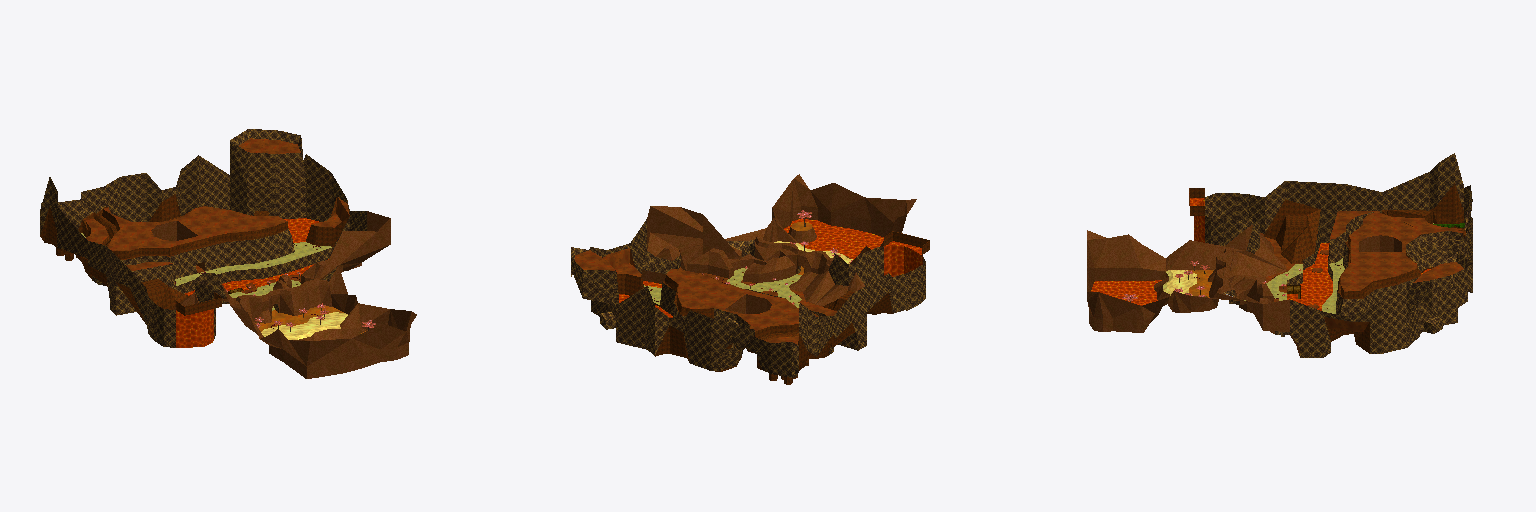
The picture shows the model from 3 angles: view 1: azimuth 30°, elevation 25°; view 2: azimuth 150°, elevation 25°; view 3: azimuth 270°, elevation 25°; orthographic projection.
Visible parts, largest first — view 1: Mesh195 Model; view 2: Mesh195 Model; view 3: Mesh195 Model.
Boxes of the visible parts, x1,y1,x2,y2 form: Mesh195 Model: [40, 129, 416, 378]; Mesh195 Model: [571, 174, 929, 384]; Mesh195 Model: [1087, 153, 1472, 357].
Bounding box in the file's own units: 8.49 × 2.92 × 11.23.
19 materials, 18 textured.